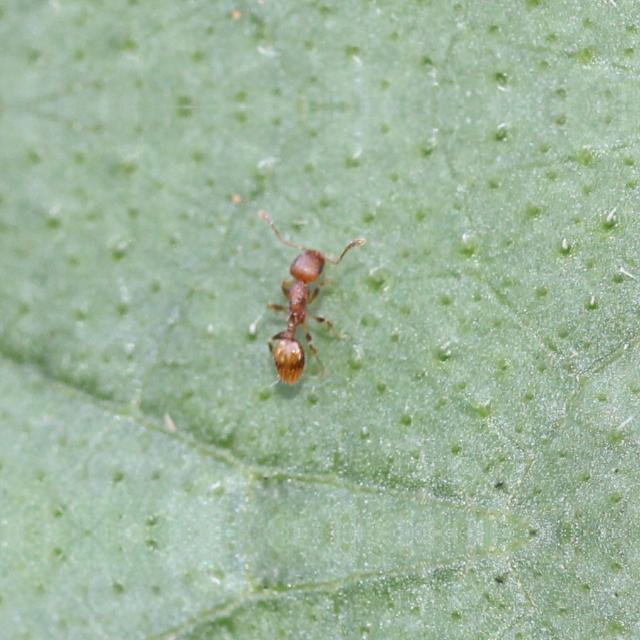Temnothorax: (235, 229, 358, 385)
